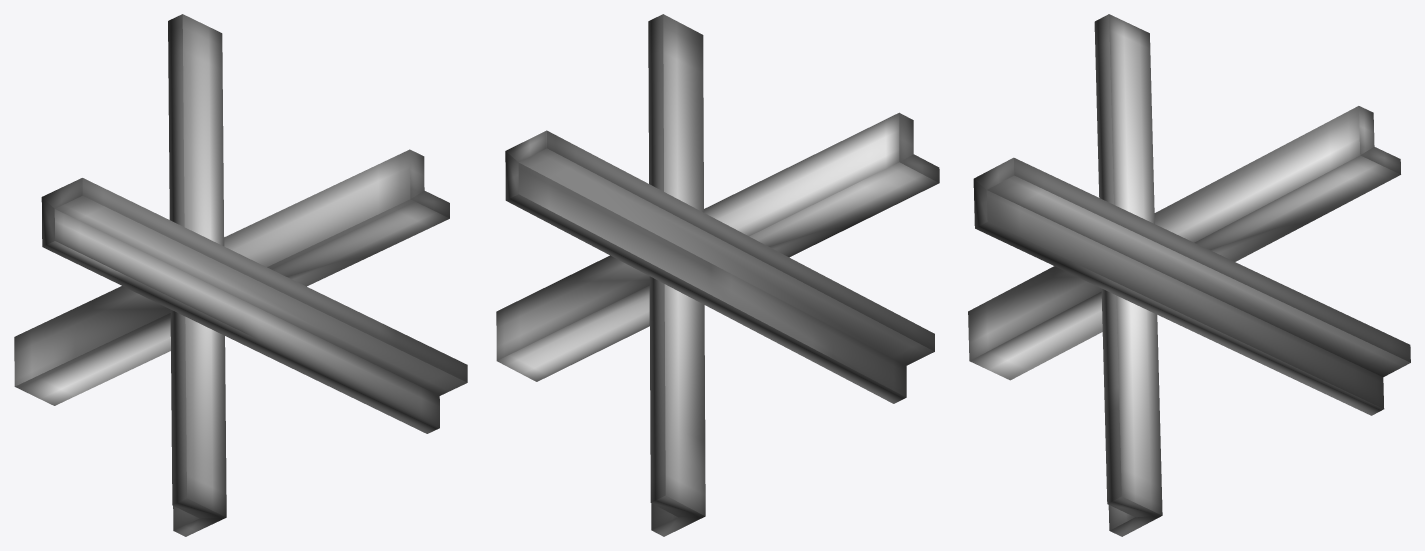
The model's file is Tank-Barrier-01.fbx.
The picture shows the model from 3 angles, left to right: view 1: azimuth 30°, elevation 25°; view 2: azimuth 150°, elevation 25°; view 3: azimuth 270°, elevation 25°; orthographic projection.
Parts seen in each view (by area): view 1: Tank-Barrier; view 2: Tank-Barrier; view 3: Tank-Barrier.
Part boxes in pixels (left/top/right/bottom): Tank-Barrier: left=14, top=14, right=467, bottom=536; Tank-Barrier: left=496, top=14, right=939, bottom=536; Tank-Barrier: left=968, top=14, right=1410, bottom=536.
Bounding box in the file's own units: 0.276 × 0.2244 × 0.2433.
